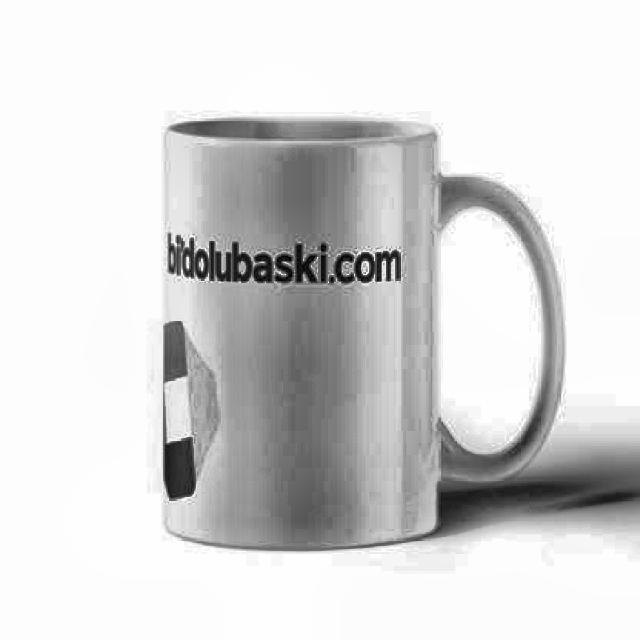Mug: (161, 116, 565, 553)
